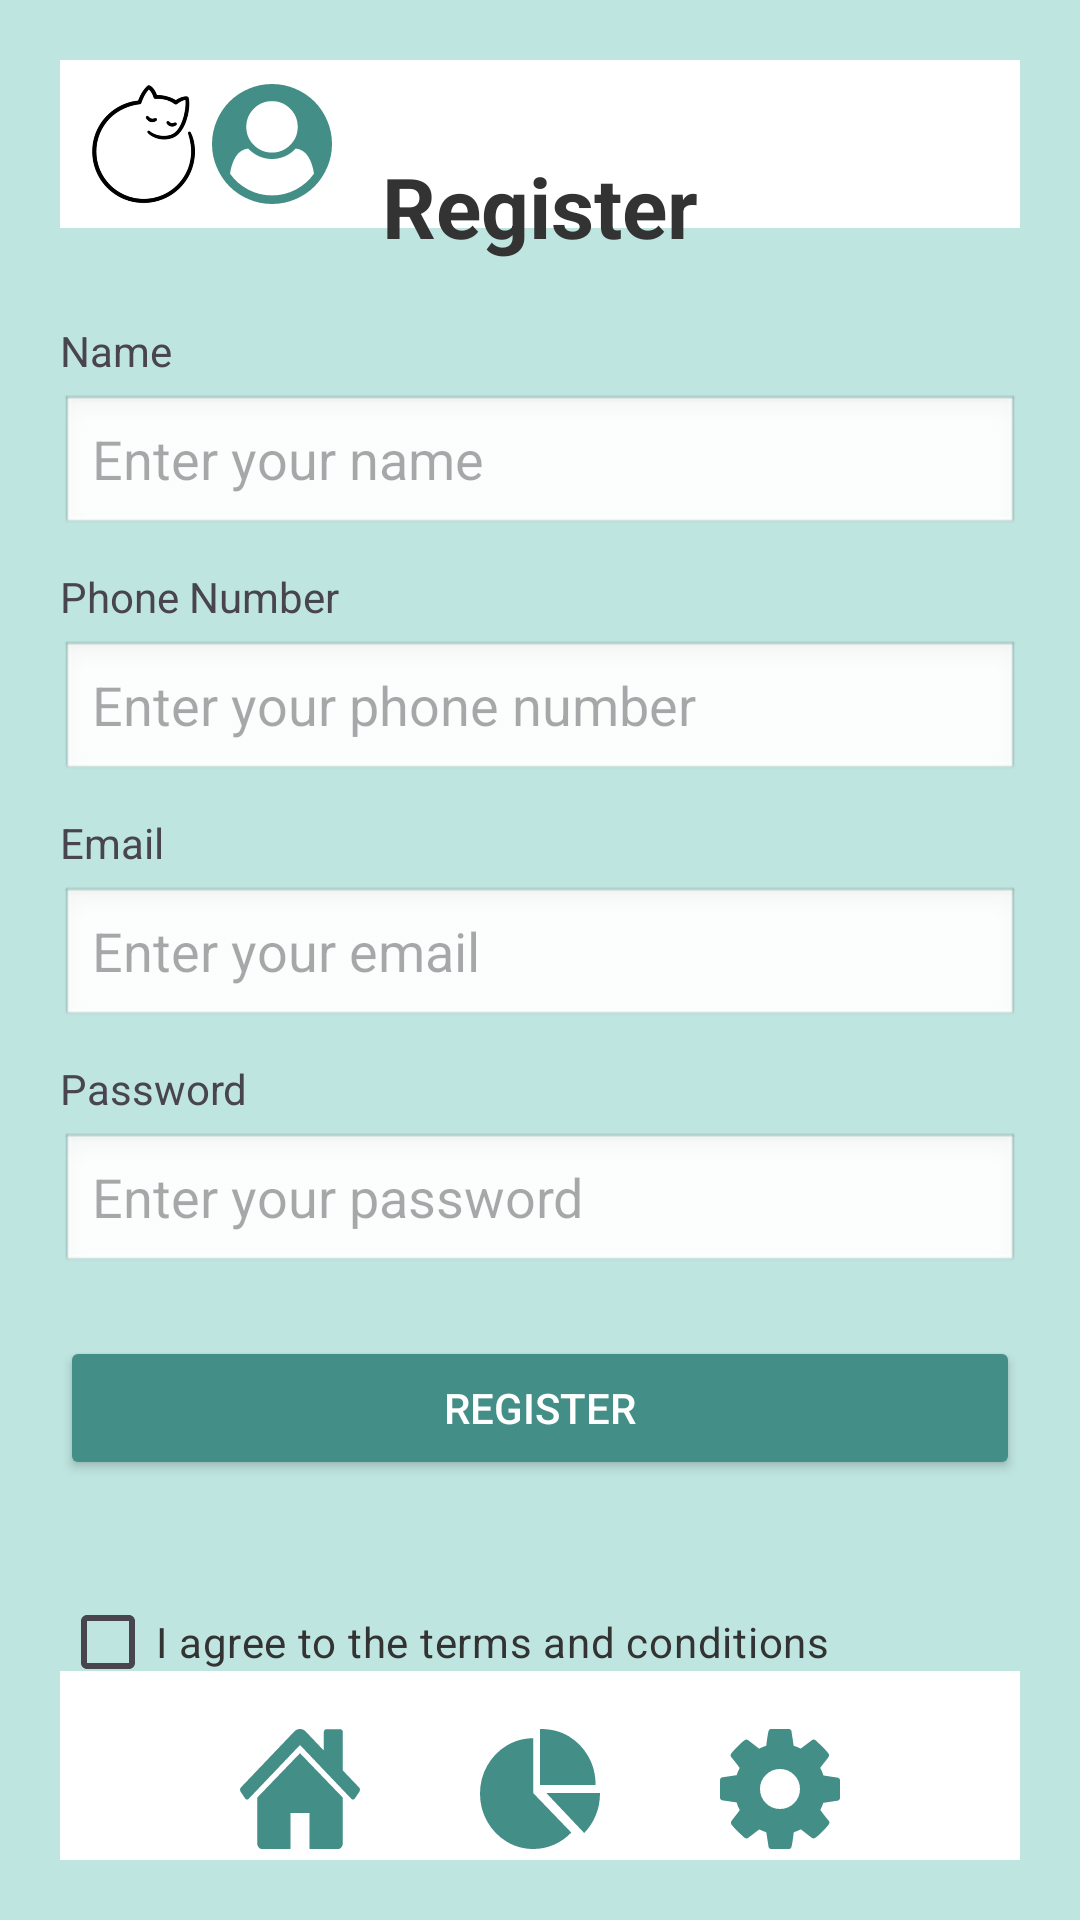

Locate icon controls on the screen. Image size 1080px×1920px, boxes as [x1,y1,x2,y2].
Home Icon Description: [240,1729,360,1849]
Settings Icon: [720,1729,840,1849]
Statistics Icon Description: [480,1729,600,1849]
User Icon: [212,84,332,204]
